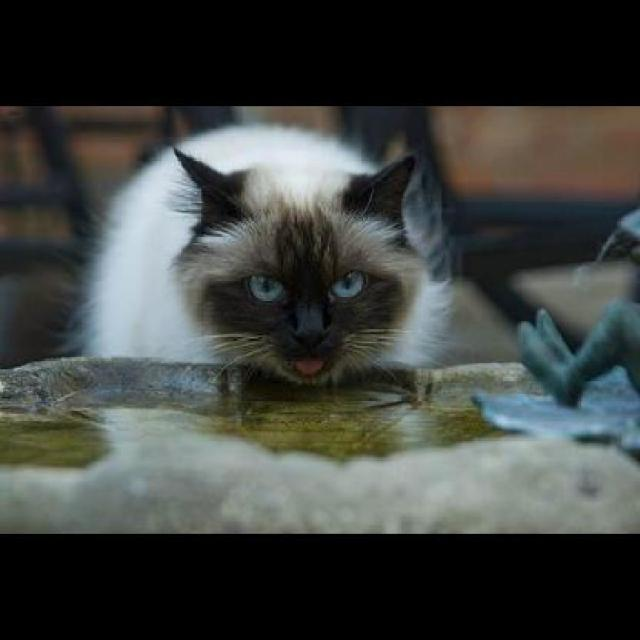unauthorized: (63, 120, 459, 389)
